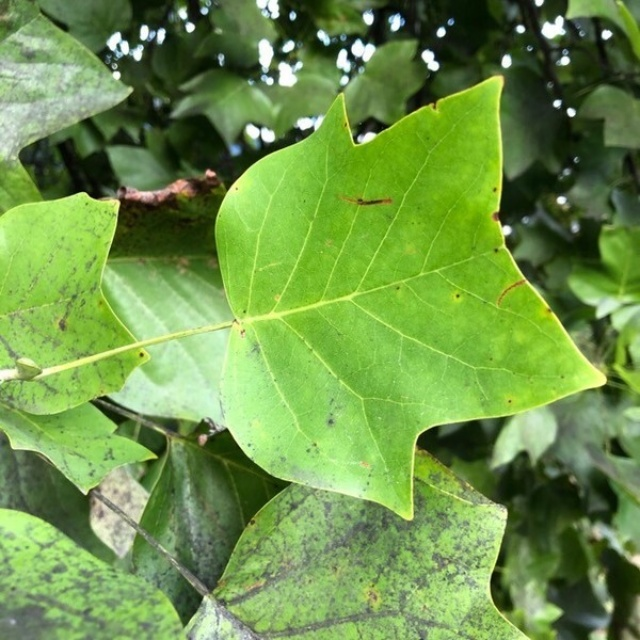obstacle: (13, 74, 634, 513)
